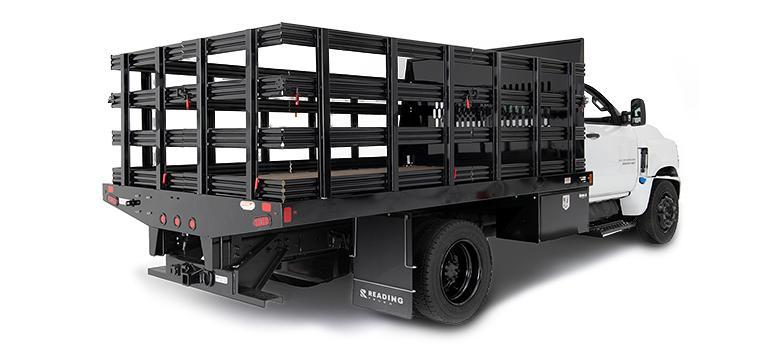truck: (101, 21, 680, 327)
